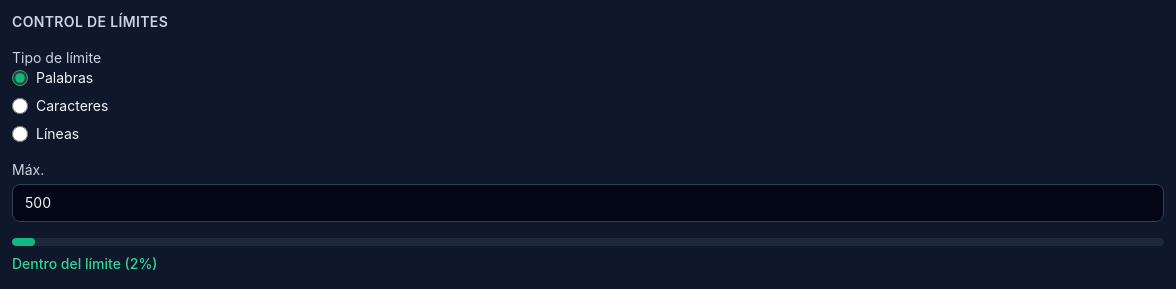
Test: LimitsPanel › recalculates the status when the max value changes
Expected: the text "Dentro del límite (2%)" is shown, [12,255,158,272]
Replace the text in the number field labelled "Máx." with "5" at {"x": 588, "y": 203}, box [12,184,1164,222]
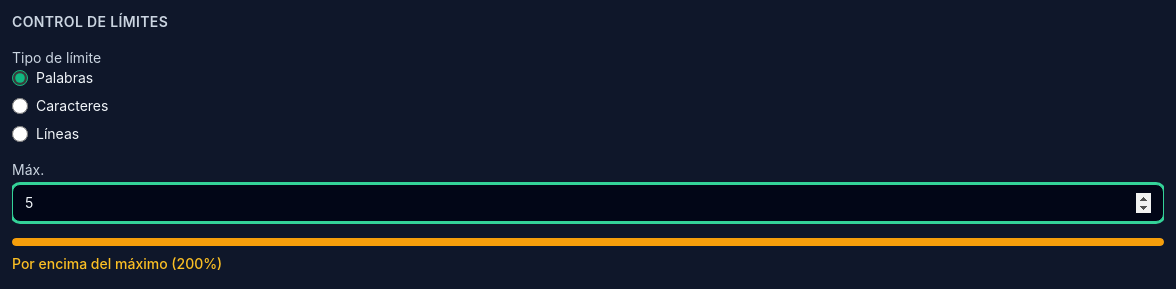
Result: the text "Por encima del máximo (200%)" is shown at [12,255,222,272]
